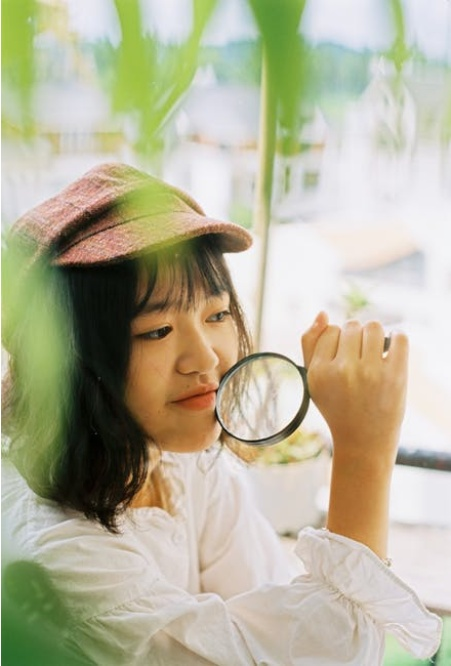face: (121, 275, 241, 453)
